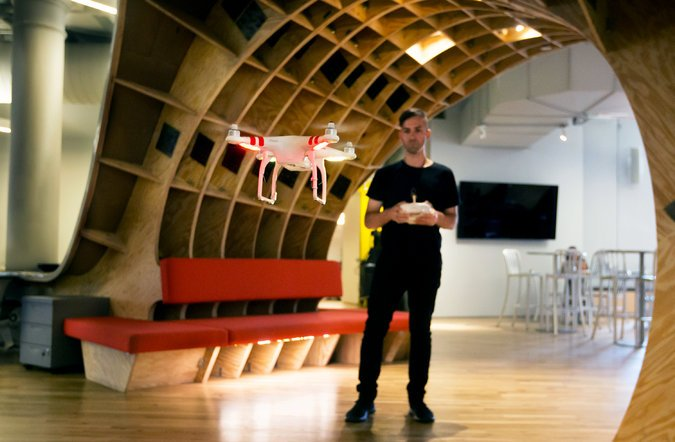drone: (201, 121, 371, 208)
person: (345, 109, 461, 426)
